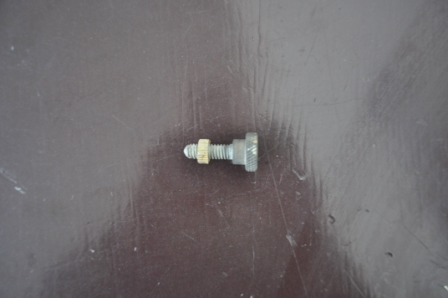NUT BOLT: (183, 132, 261, 174)
